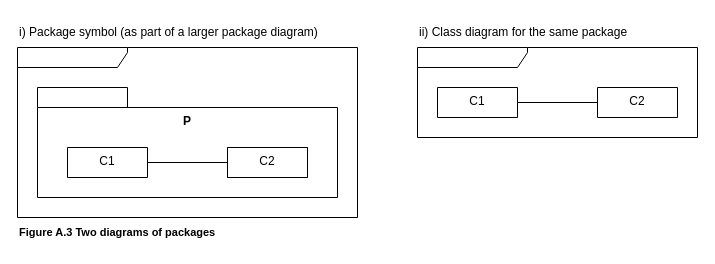
Image size: 715x264. Some labels were removed from this diagram. The box of each missing label's shape, as (x1, y1, x2, y2) in pixels:
package CP: (16, 46, 358, 218)
package P: (416, 46, 698, 138)
